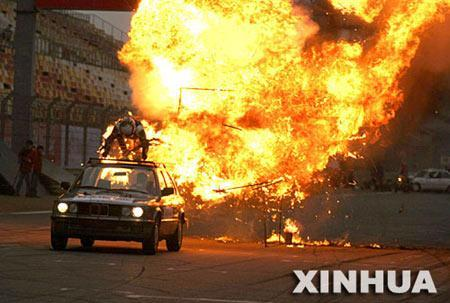fire: (116, 0, 450, 204)
